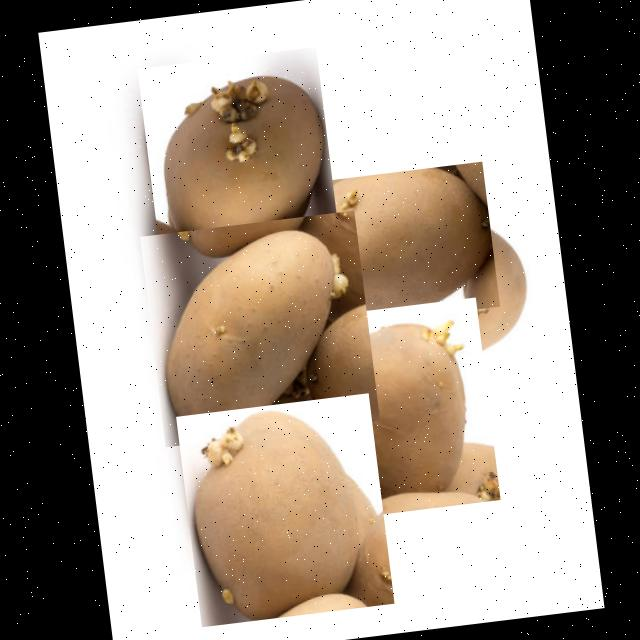Sprouted potato: (138, 210, 378, 447), (175, 393, 393, 627), (136, 47, 339, 267), (320, 297, 500, 518), (284, 161, 498, 330)
